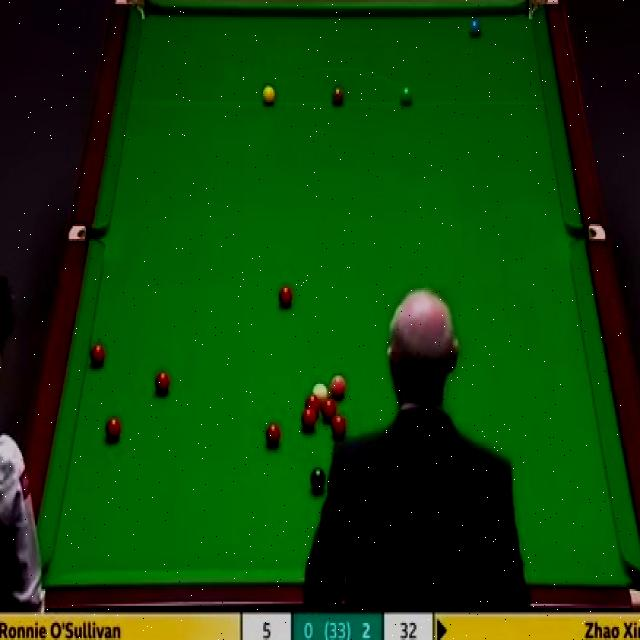black-ball: (310, 469, 326, 492)
blue-ball: (469, 18, 484, 36)
brown-ball: (332, 85, 346, 106)
green-ball: (399, 85, 414, 108)
pink-ball: (330, 373, 346, 399)
red-ball: (154, 366, 170, 398), (264, 422, 282, 449), (90, 343, 108, 369), (330, 412, 347, 438), (105, 416, 121, 443), (323, 395, 340, 419), (278, 286, 294, 310), (305, 393, 320, 417), (301, 408, 316, 431)
white-ball: (312, 383, 328, 403)
yellow-ball: (260, 85, 276, 106)
